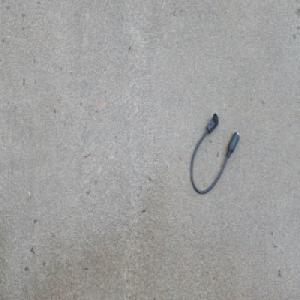Wire: (189, 111, 240, 195)
